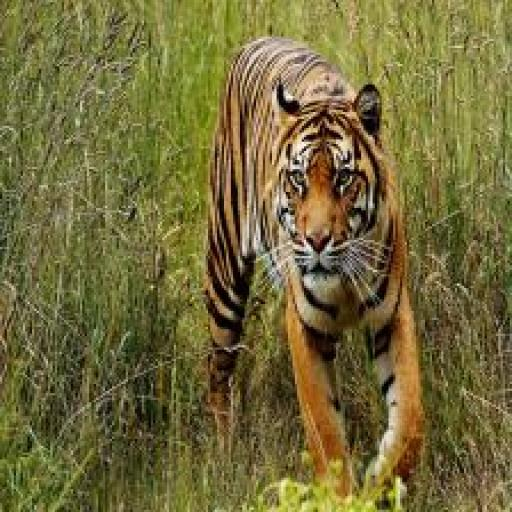Tiger: (201, 36, 424, 512)
